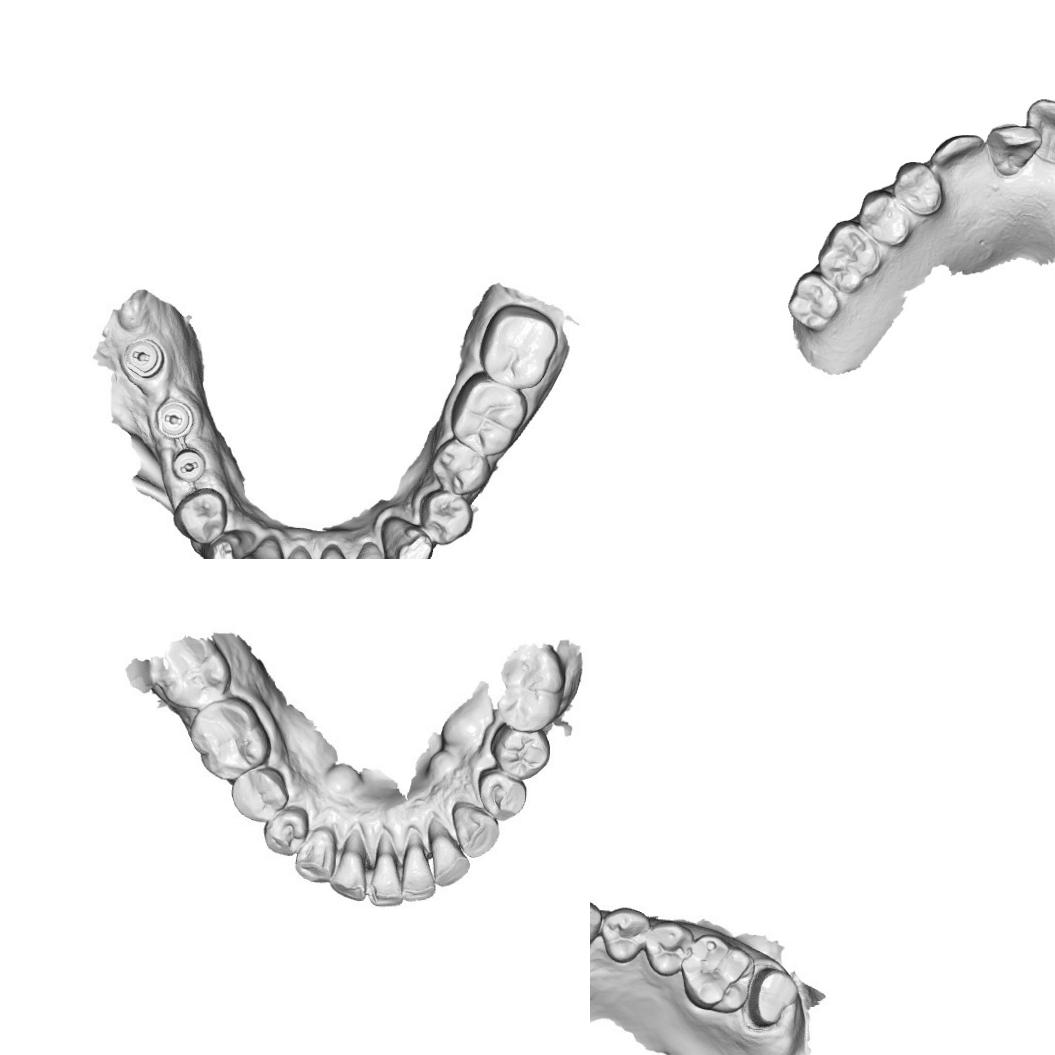canine: (450, 798, 500, 859), (378, 517, 437, 559), (292, 828, 334, 885), (927, 132, 986, 172), (203, 529, 250, 559), (590, 892, 602, 957)
crown: (746, 964, 803, 1030)
implant_minus: (126, 335, 164, 380), (155, 402, 193, 442), (171, 450, 205, 482)
incisor: (984, 121, 1042, 179), (428, 820, 469, 888), (364, 844, 404, 911), (328, 838, 369, 903), (399, 839, 438, 901), (1023, 96, 1055, 164), (241, 536, 287, 559), (352, 542, 392, 559), (317, 542, 356, 559)
molar: (477, 305, 560, 390), (189, 696, 270, 782), (452, 371, 527, 458), (681, 932, 753, 1014), (495, 649, 566, 731), (156, 634, 234, 707), (814, 218, 883, 295), (786, 269, 842, 333)
premolar: (172, 486, 231, 548), (638, 918, 695, 978), (856, 187, 912, 247), (490, 728, 551, 780), (430, 436, 486, 492), (232, 767, 287, 822), (891, 160, 944, 216), (600, 906, 647, 966), (420, 490, 472, 542), (476, 769, 528, 820), (258, 810, 306, 856)
